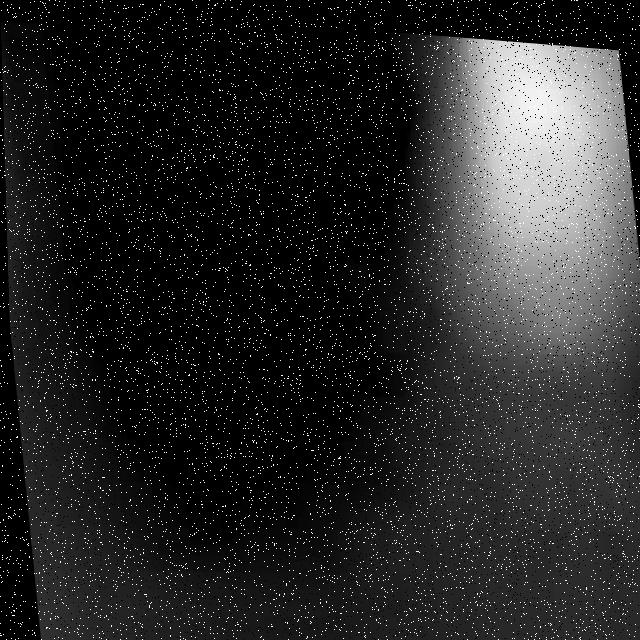person: (376, 25, 640, 428)
